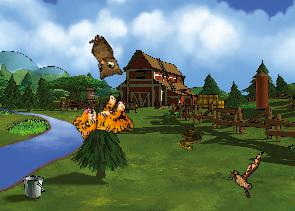eagle: (228, 151, 264, 198)
owl: (77, 32, 127, 86)
tiger: (69, 87, 139, 155)
